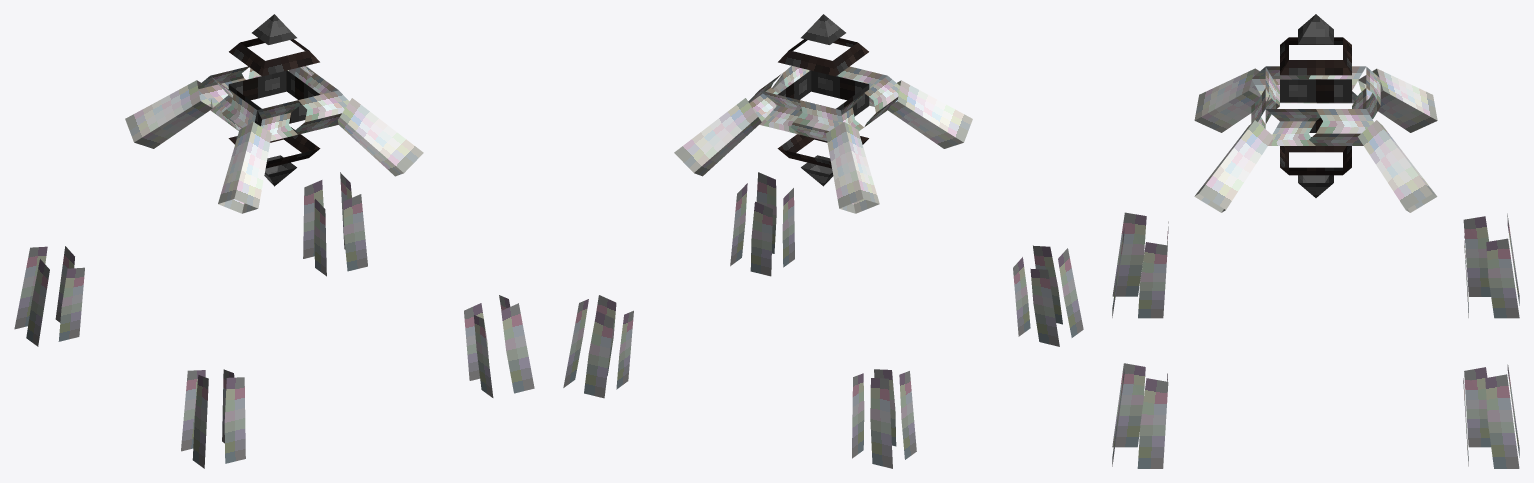
Rendered from arcane_workbench_charger.obj.
3 views of the same model, side by side, from view 1: azimuth 30°, elevation 25°; view 2: azimuth 150°, elevation 25°; view 3: azimuth 270°, elevation 25° (orthographic). The views are drawn at different scales.
Parts seen in each view (by area): view 1: Support001, Support, Support002, Crystal, RingFloat, Support003; view 2: Support, Support001, Support003, Crystal, RingFloat, Support002; view 3: Support002, Support003, Support, Support001, Crystal, RingFloat.
Part boxes in pixels (box(x1,y1,x2,y2)): Support001: box(181, 122, 271, 468); Support: box(14, 80, 212, 346); Support002: box(338, 98, 534, 397); Crystal: box(228, 14, 320, 186); RingFloat: box(198, 66, 349, 141); Support003: box(288, 65, 367, 276); Support: box(826, 122, 916, 468); Support001: box(888, 80, 1083, 346); Support003: box(563, 98, 761, 398); Crystal: box(777, 14, 869, 186); RingFloat: box(748, 66, 900, 141); Support002: box(730, 66, 800, 276); Support002: box(1112, 120, 1273, 468); Support003: box(1358, 120, 1519, 468); Support: box(1358, 68, 1519, 318); Support001: box(1112, 68, 1269, 318); Crystal: box(1280, 14, 1351, 197); RingFloat: box(1251, 66, 1380, 145).
Bounding box in the file's own units: 1 × 1 × 1.
